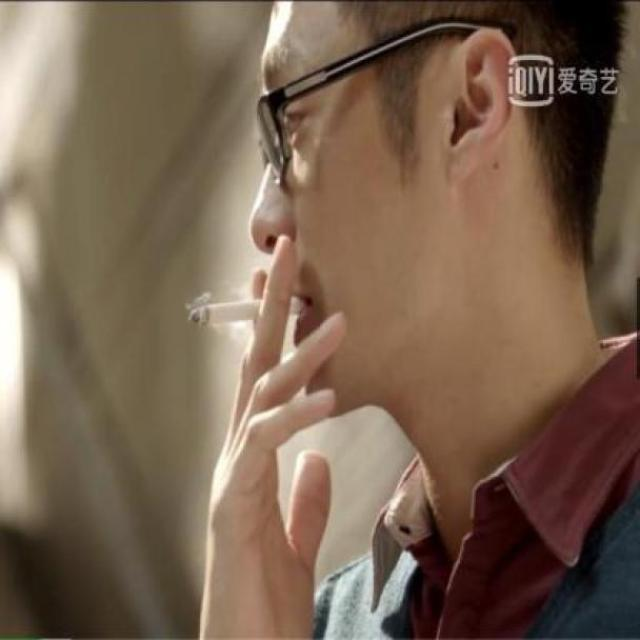rokok: (183, 294, 309, 334)
